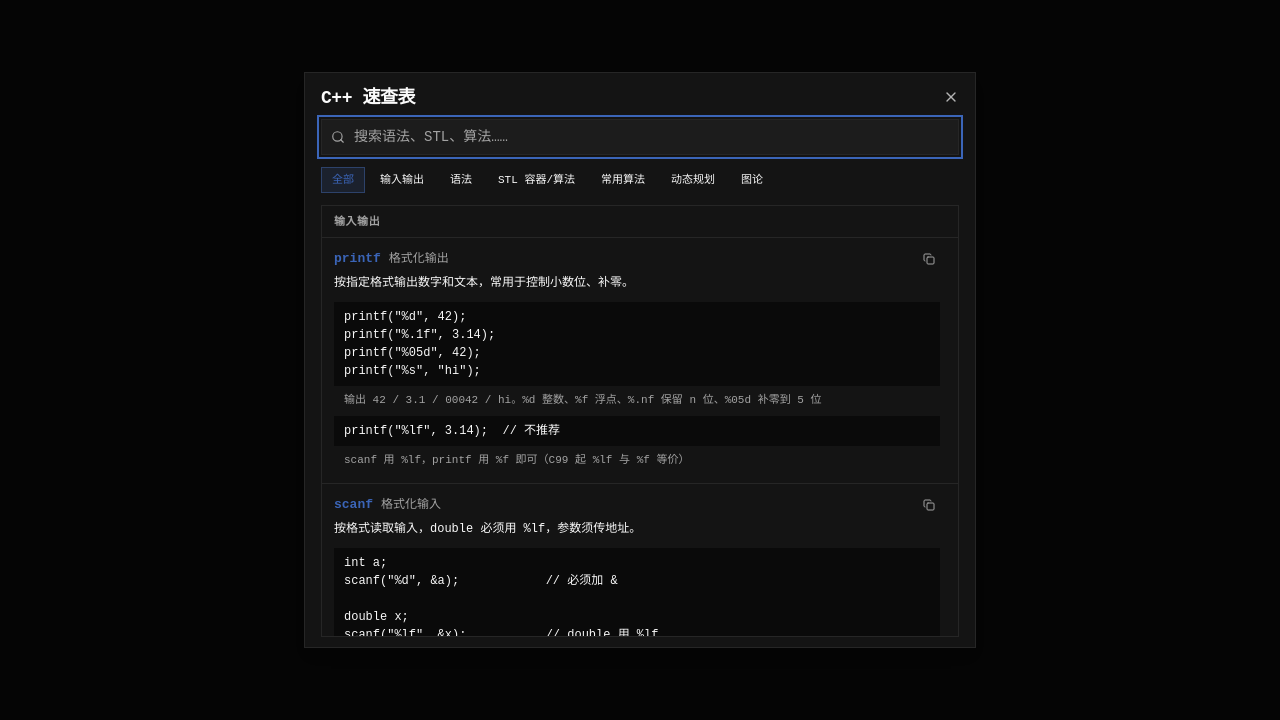
Test: CheatsheetDialog › 输入 printf 时至少命中 printf 条目
Type "printf" into the field with placeholder "搜索语法、STL、算法……". click: [640, 137]
box: left=321, top=119, right=959, bottom=155
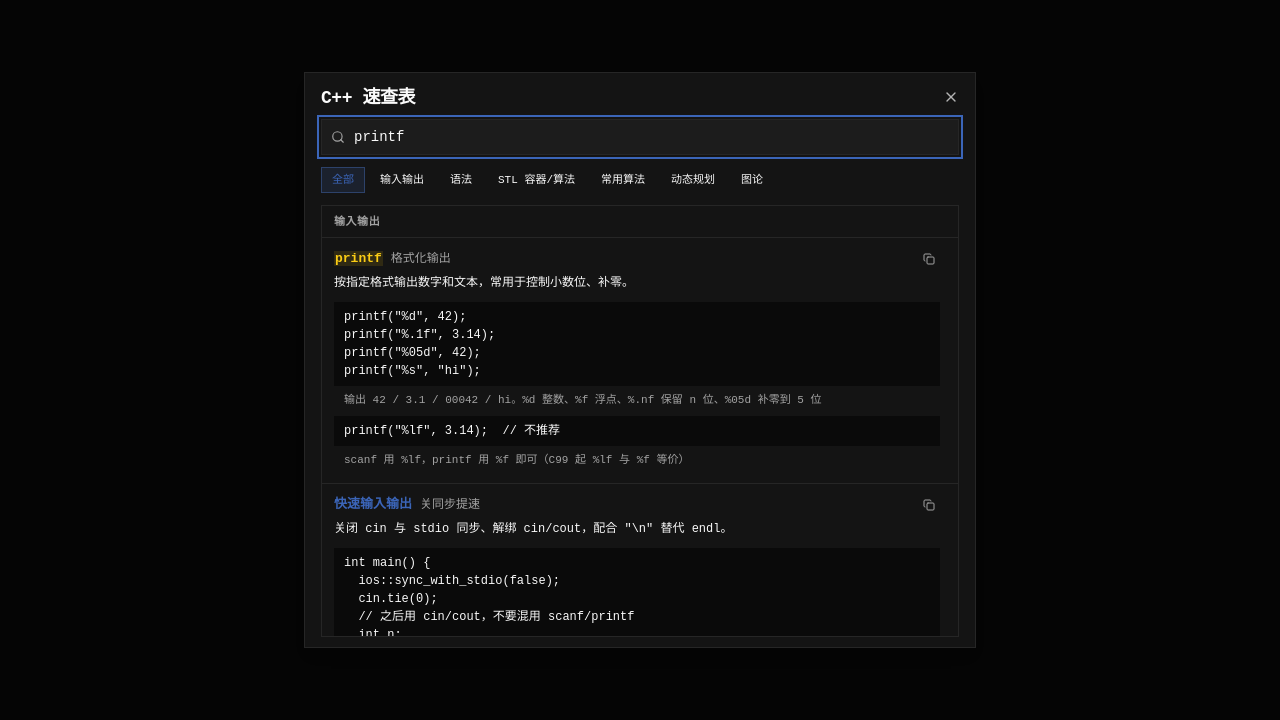
expect the text "printf" is shown: met, box left=334, top=251, right=383, bottom=266
